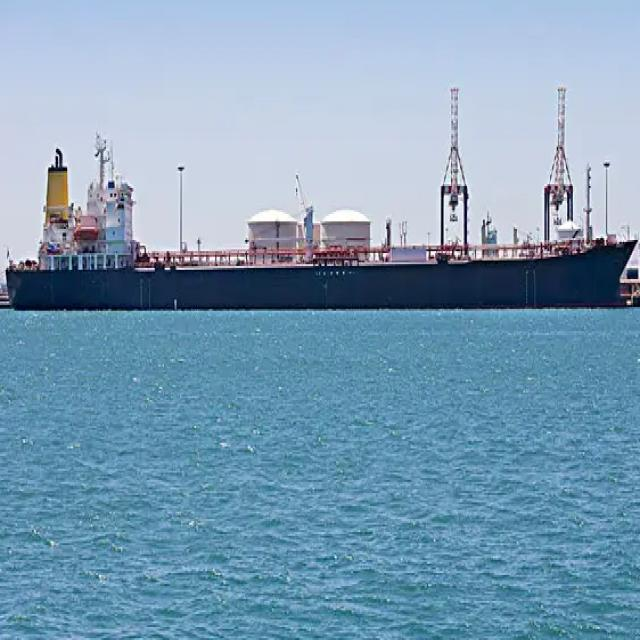cargoship: (2, 85, 628, 322)
